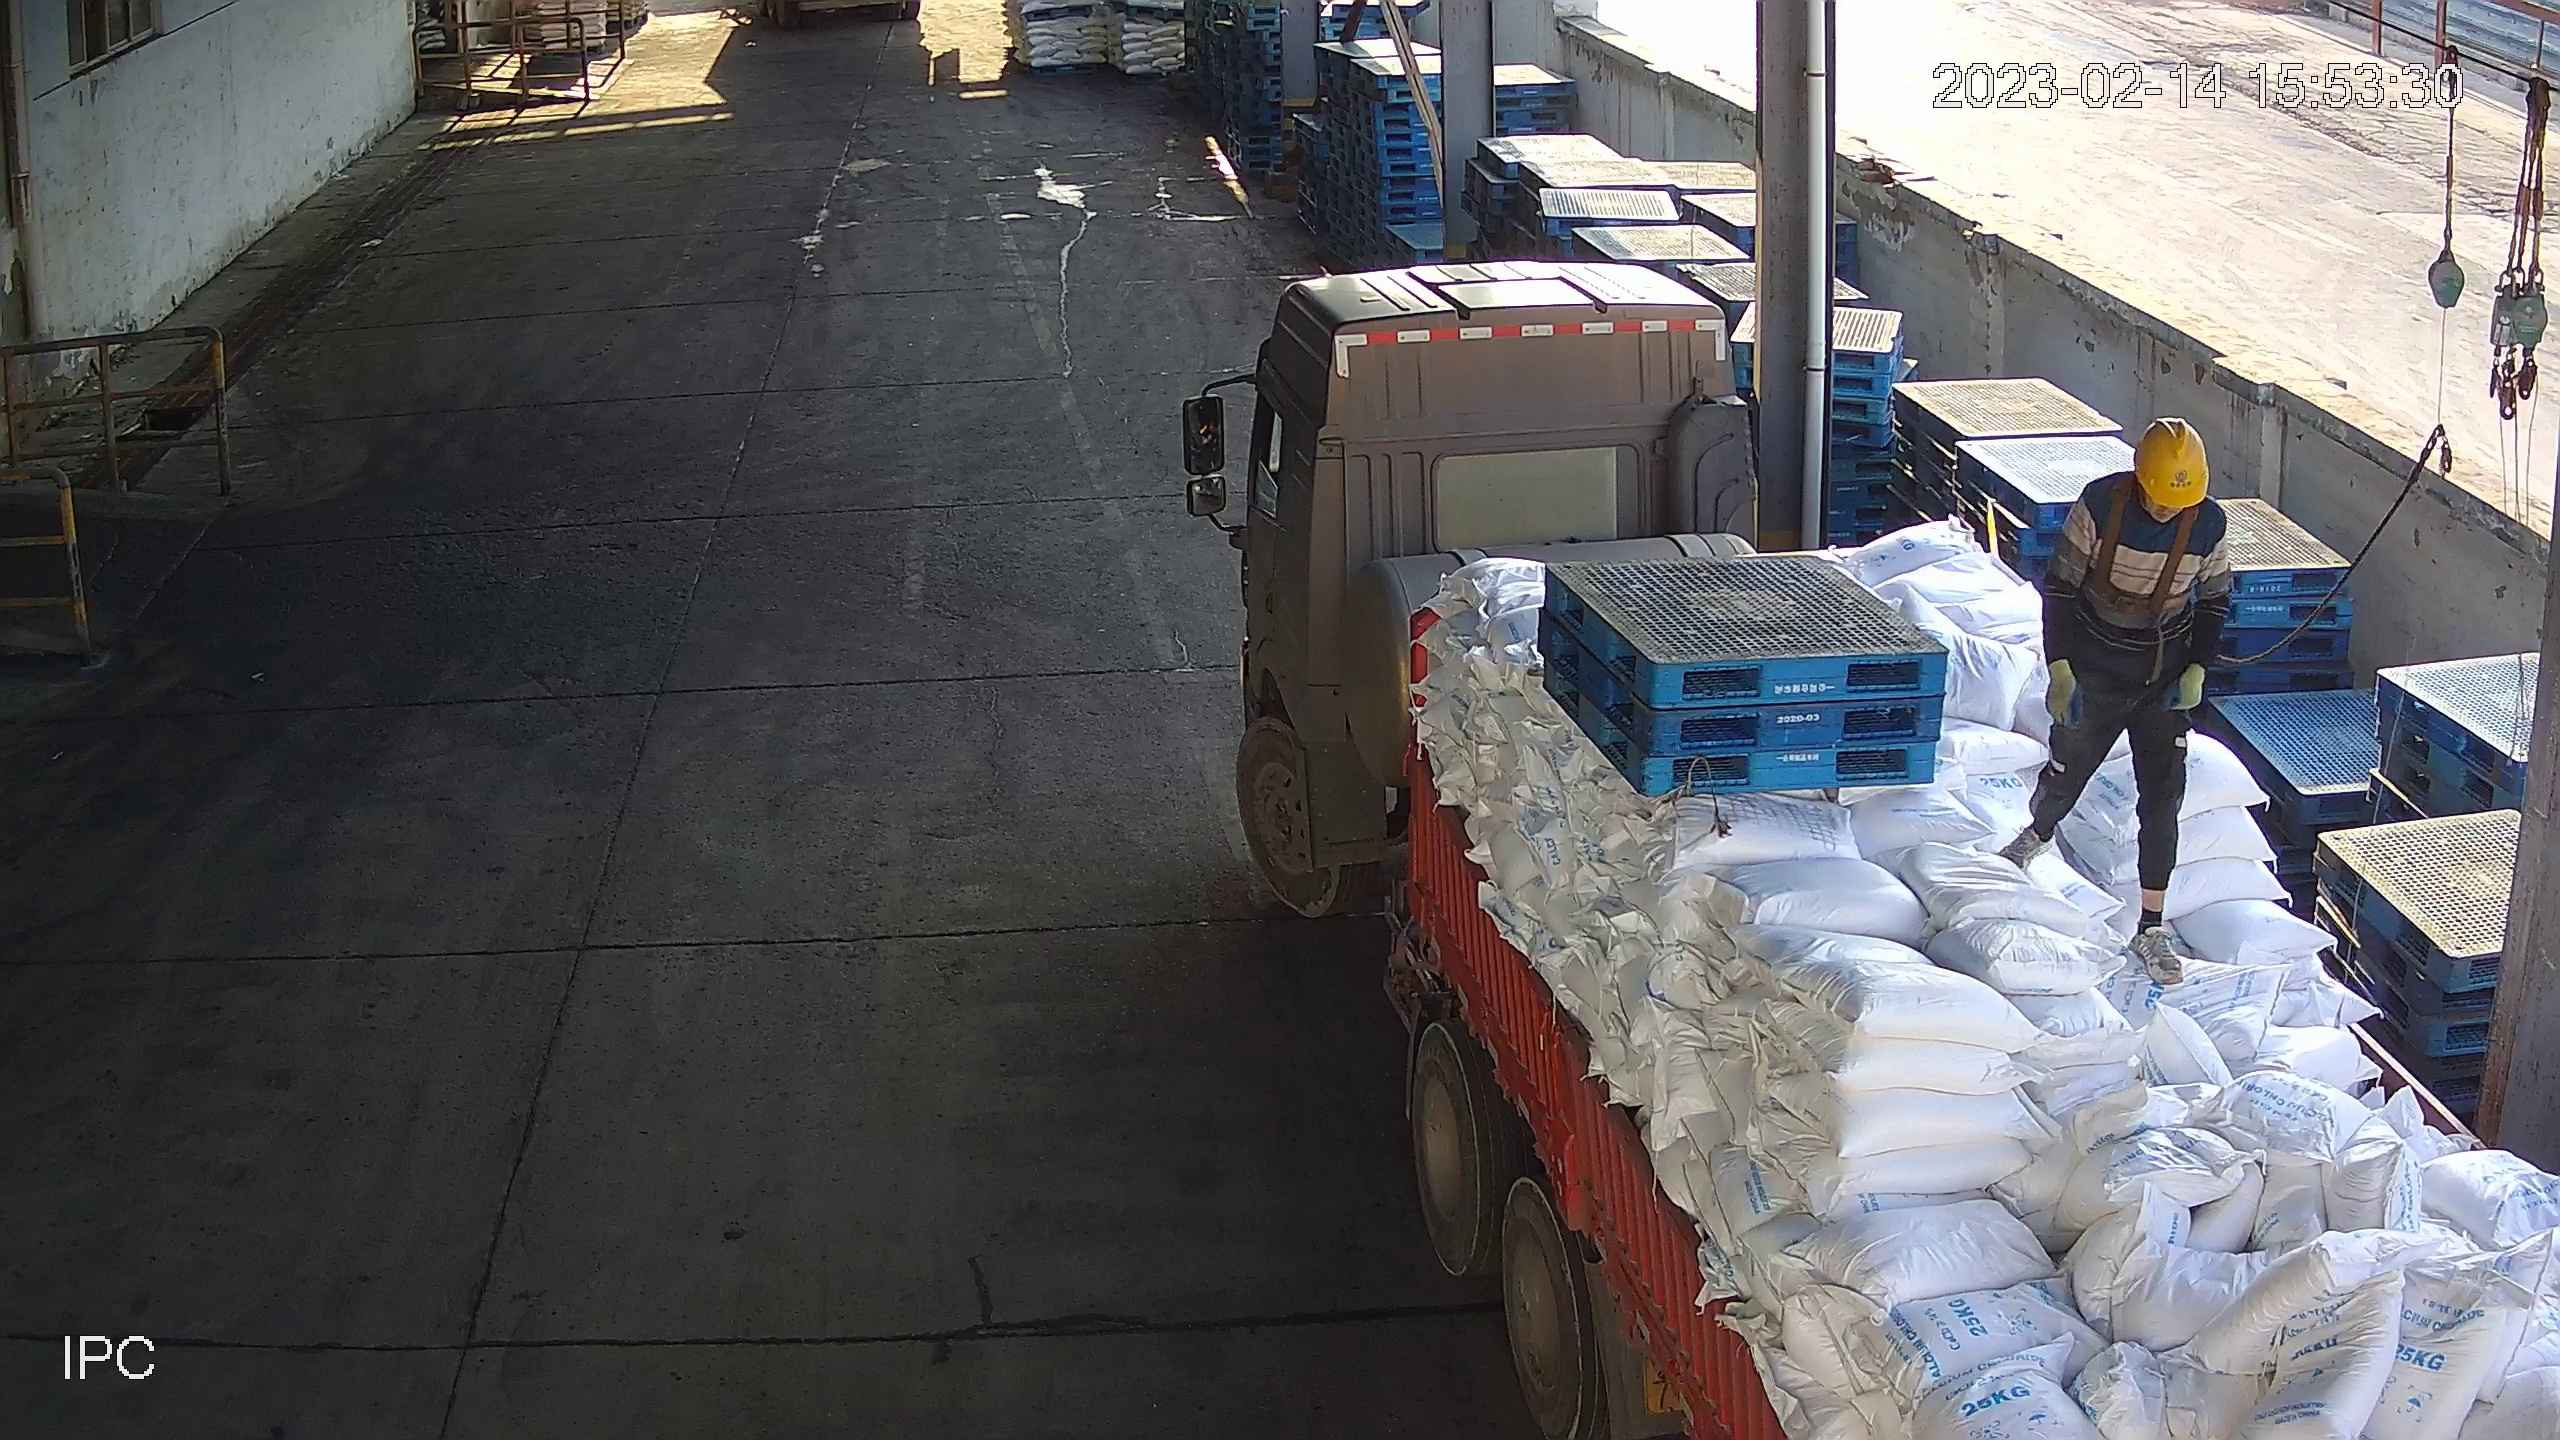belt: (2085, 475, 2200, 681)
head: (2070, 417, 2228, 558)
helmet: (2134, 415, 2210, 508)
people: (1997, 415, 2236, 988)
truck: (1181, 257, 2560, 1440)
